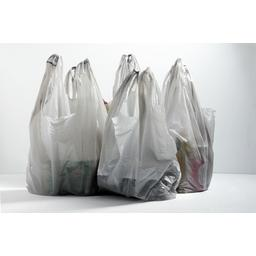plastic: (21, 55, 104, 198), (98, 68, 173, 205), (158, 55, 222, 194)
